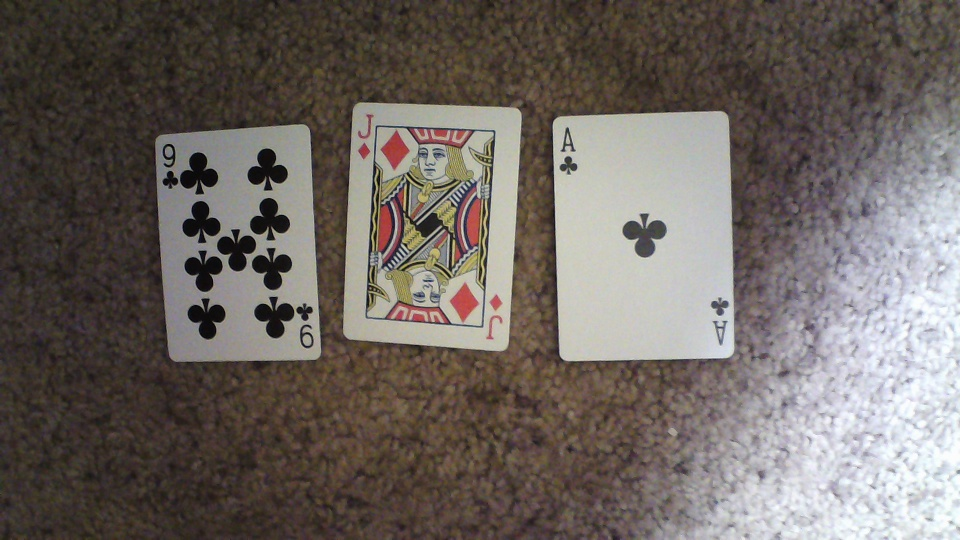ace: (549, 110, 736, 360)
jack: (340, 102, 521, 352)
nine: (152, 123, 323, 361)
